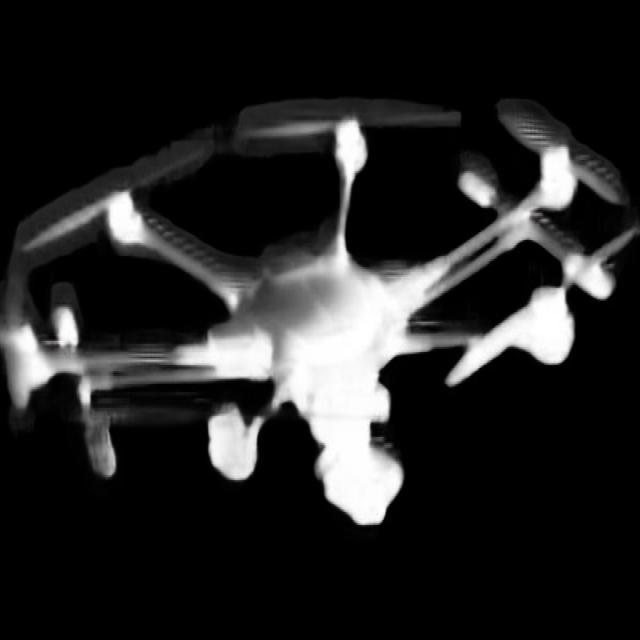drone: (8, 88, 635, 526)
